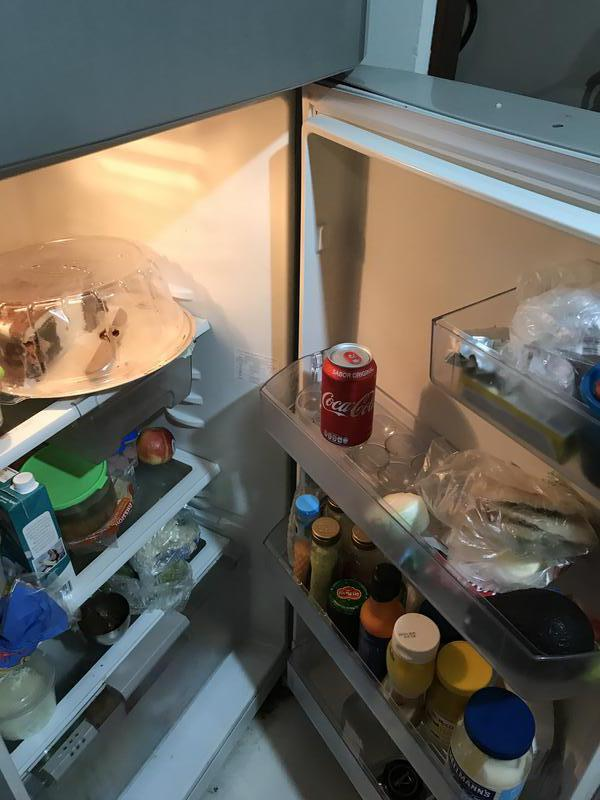coca_cola: (320, 344, 377, 449)
